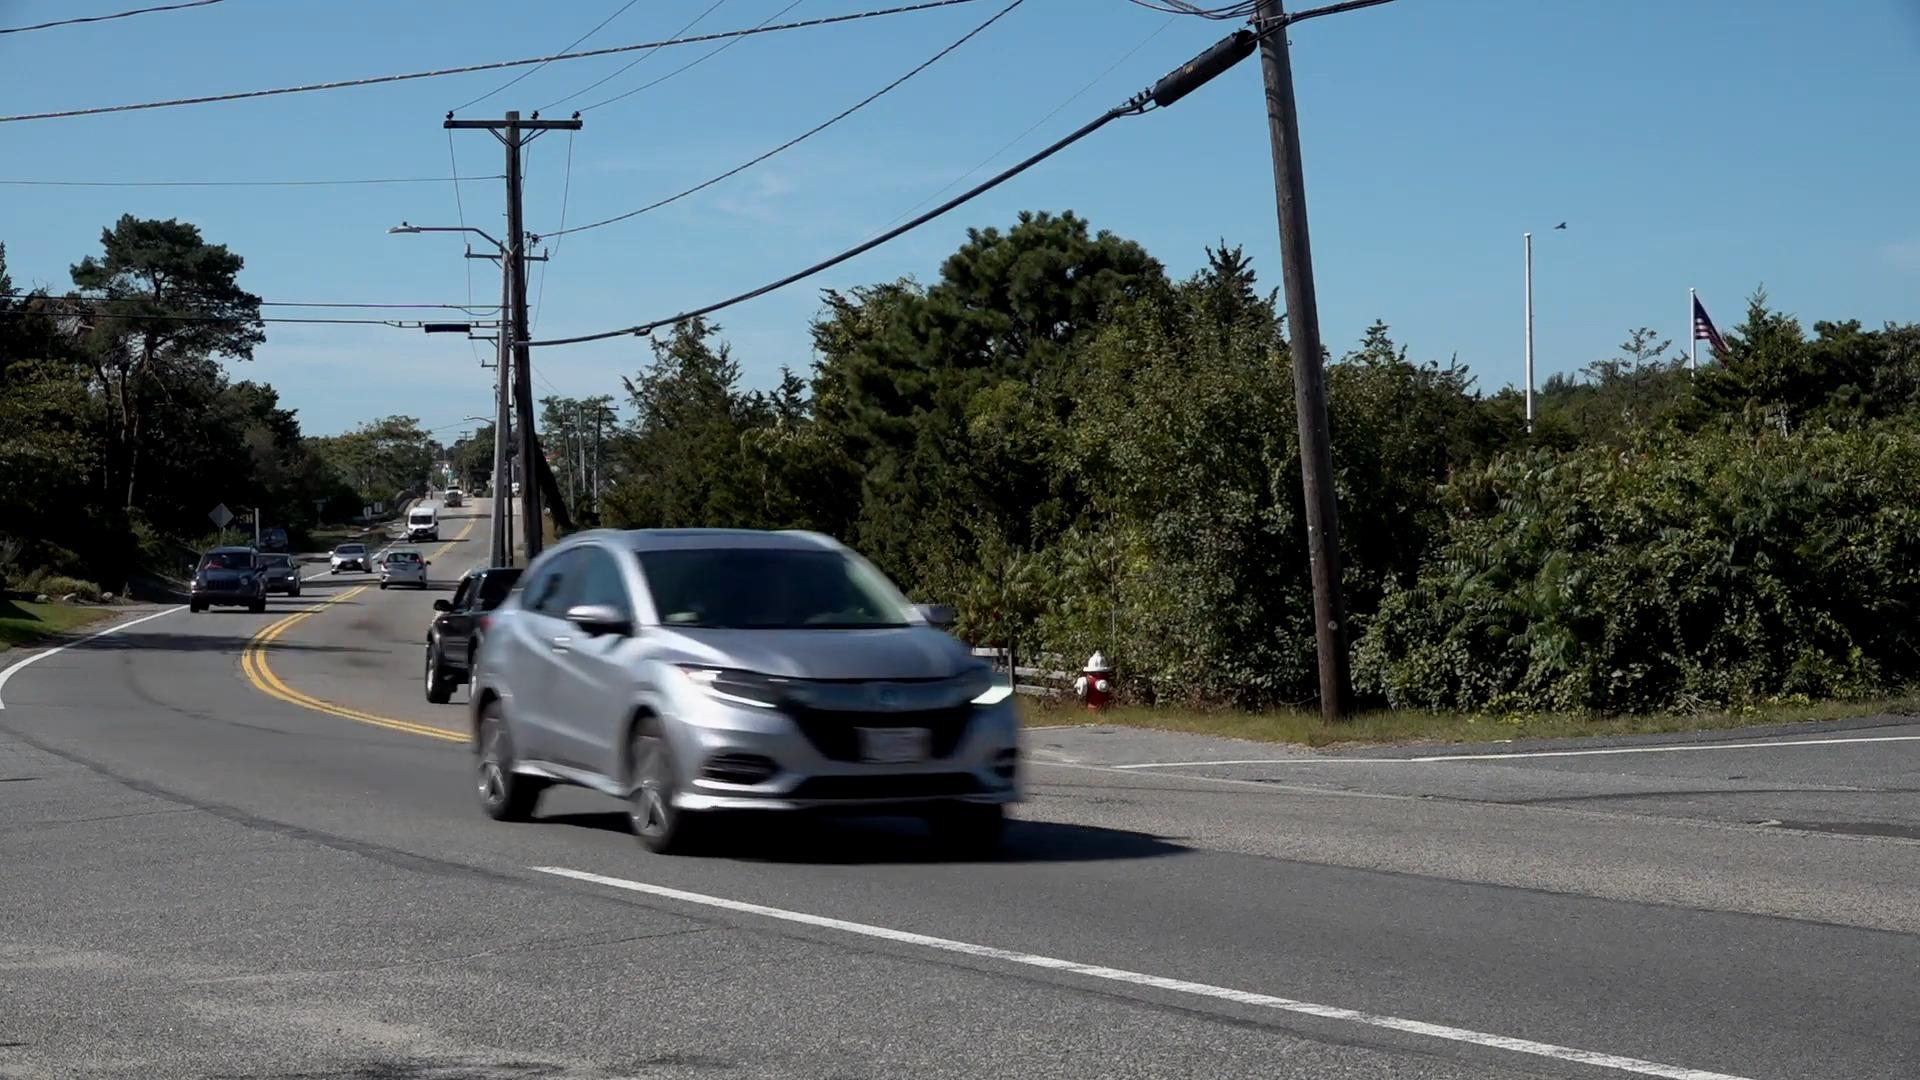suv: (469, 523, 1024, 847), (186, 544, 270, 613)
